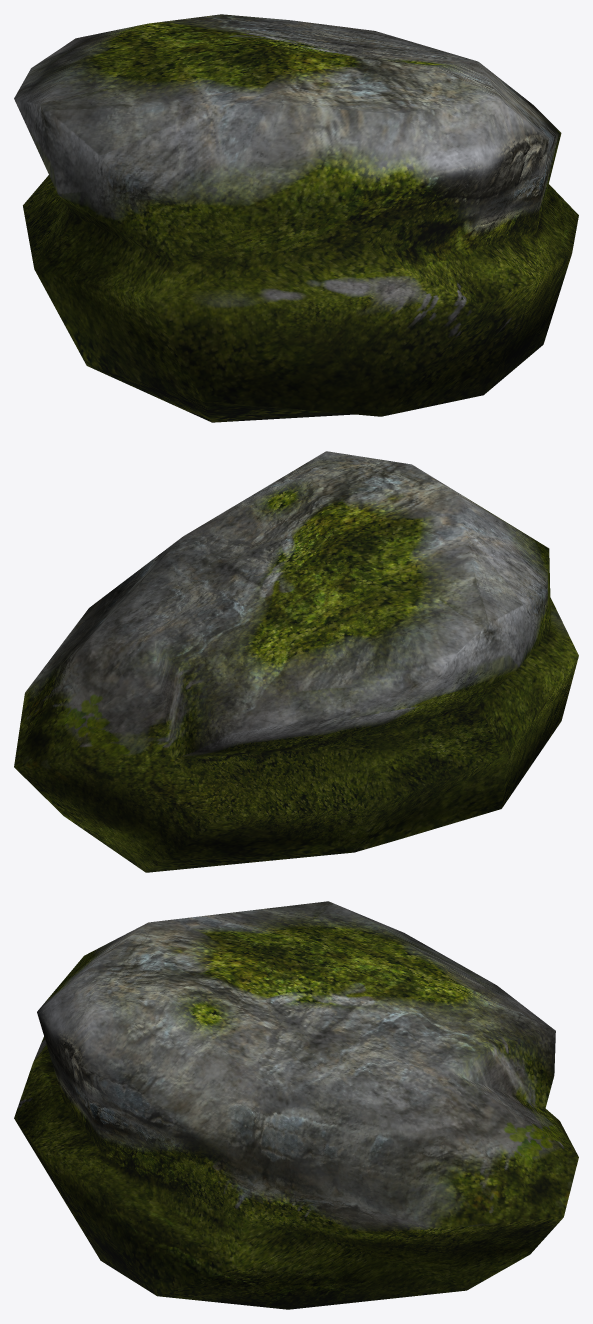
The model's file is rock.glb.
The picture shows the model from 3 angles, top to bottom: view 1: azimuth 30°, elevation 25°; view 2: azimuth 150°, elevation 25°; view 3: azimuth 270°, elevation 25°; orthographic projection. The views are drawn at different scales.
Visible parts, largest first — view 1: Cube.003; view 2: Cube.003; view 3: Cube.003.
Part boxes in pixels (left/top/right/bottom): Cube.003: left=14, top=14, right=578, bottom=422; Cube.003: left=14, top=451, right=578, bottom=872; Cube.003: left=14, top=901, right=578, bottom=1309.
Size of the model in its own units: 3.4 by 2.11 by 3.87.
1 material, 1 textured.
